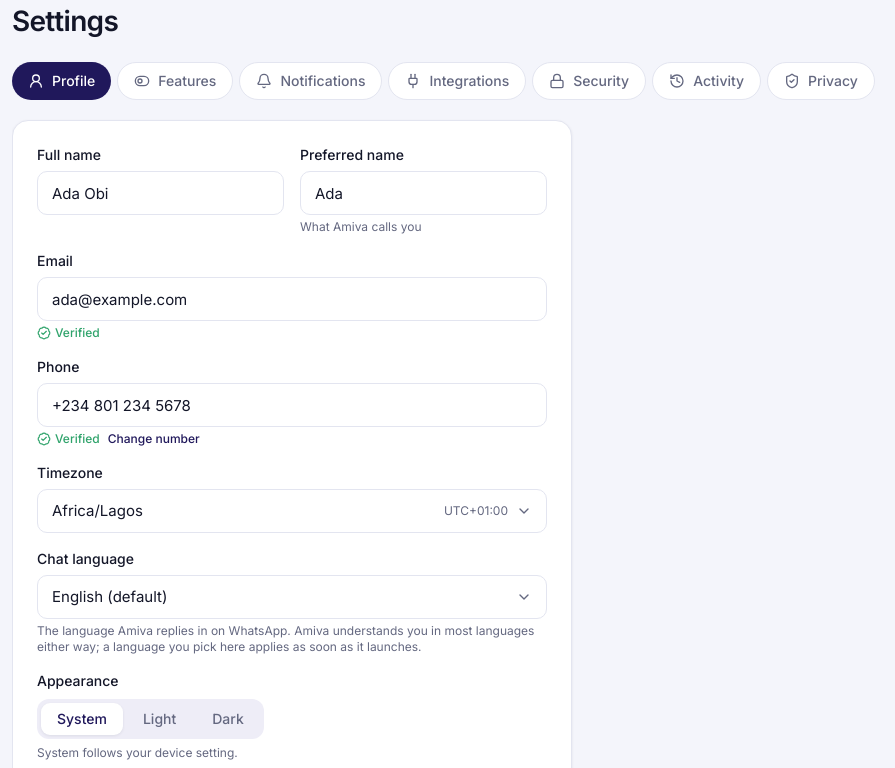
it: Settings page › switches between tabs, including the relocated Activity tab
Expected: the field labelled "Full name" is shown, [37,171,284,215]
Click the button "Integrations": (457, 81) [388,62,526,100]
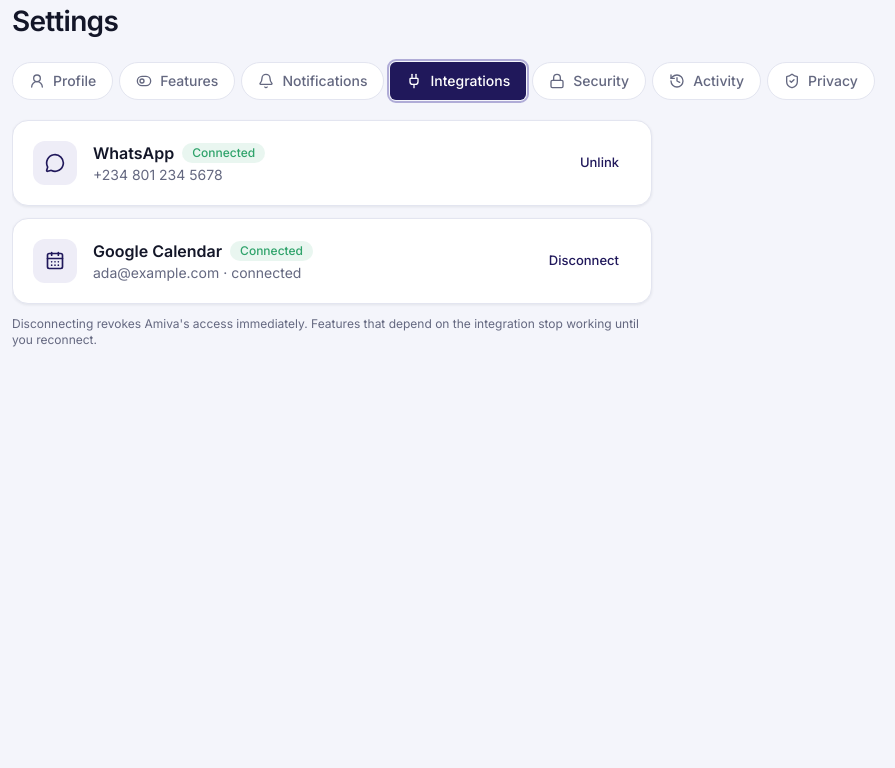
Expected: the text "Google Calendar" is shown, [93,241,222,261]
Click the button "Privacy": (821, 81) [767,62,875,100]
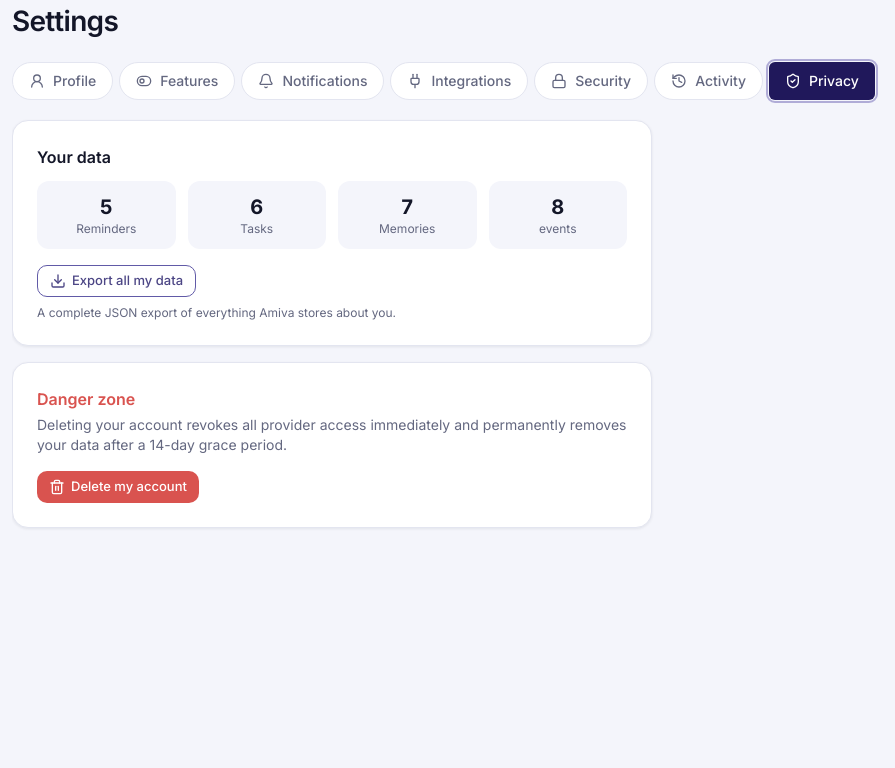
Expected: the text "Danger zone" is shown, [37,389,135,409]
Click the button "Activity": (709, 81) [654,62,763,100]
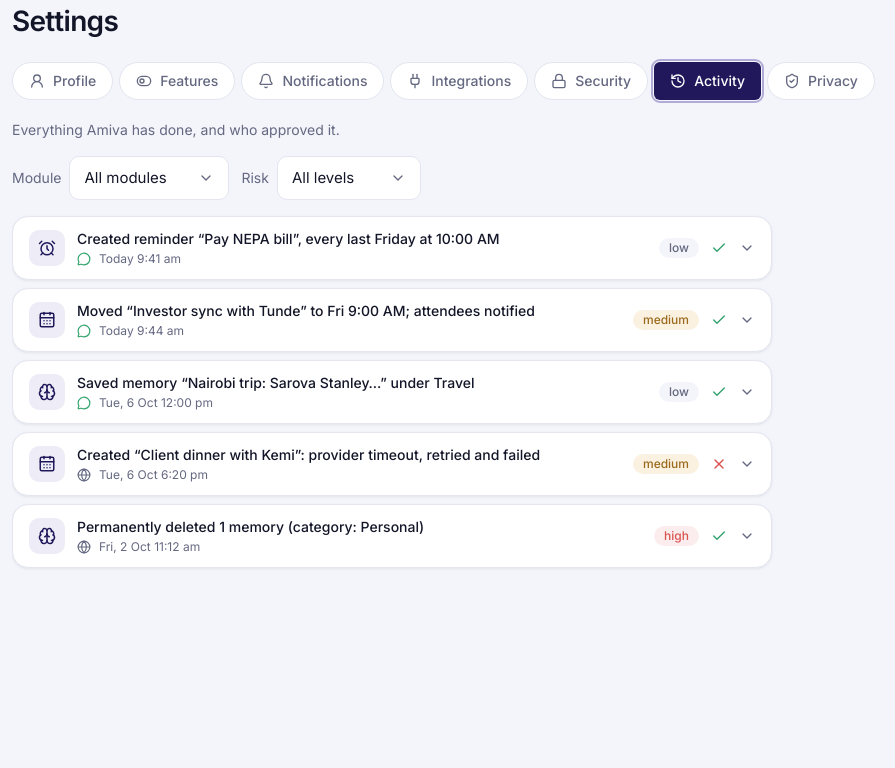
Expected: the text "Everything Amiva has done, and who approved it." is shown, [12,121,340,138]
